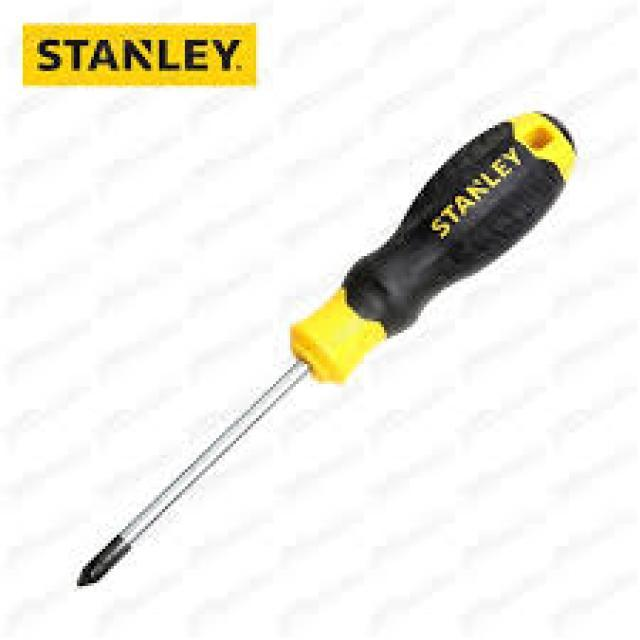screwdriver: (71, 111, 578, 592)
